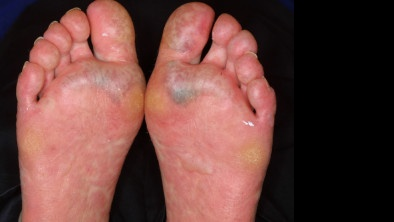SJS-TEN: (144, 0, 284, 222), (10, 0, 144, 222)
